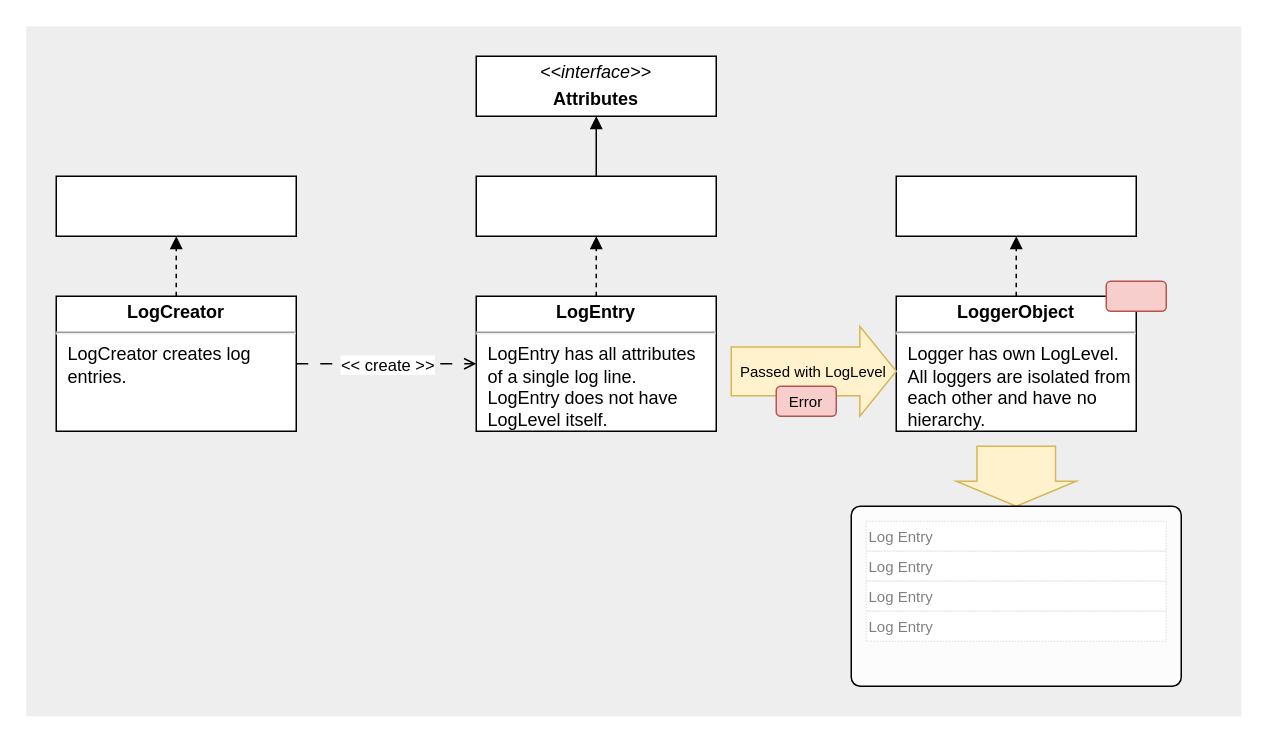
The diagram is 1266 pixels wide and 741 high, and some of its shapes have lost their labels. Each missing label, with the centre of its shape:
"<<interface>> Creator" belongs at (x=175, y=205).
"<<interface>> Log" belongs at (x=595, y=205).
"<<interface>> Logger" belongs at (x=1015, y=205).
"Info" belongs at (x=1135, y=295).
"Output" belongs at (x=1015, y=475).
